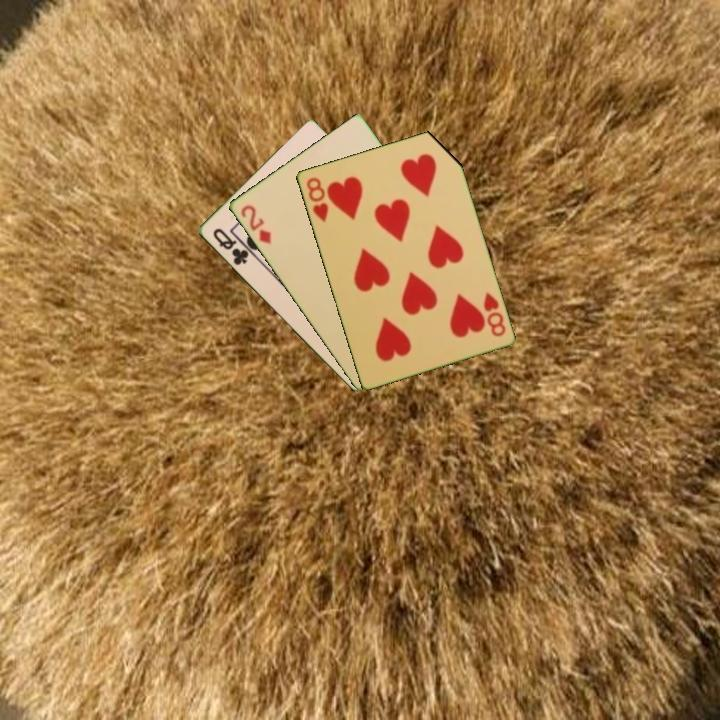2d: (237, 201, 274, 247)
8h: (302, 173, 331, 225), (479, 289, 508, 339)
Qc: (209, 225, 256, 268)
